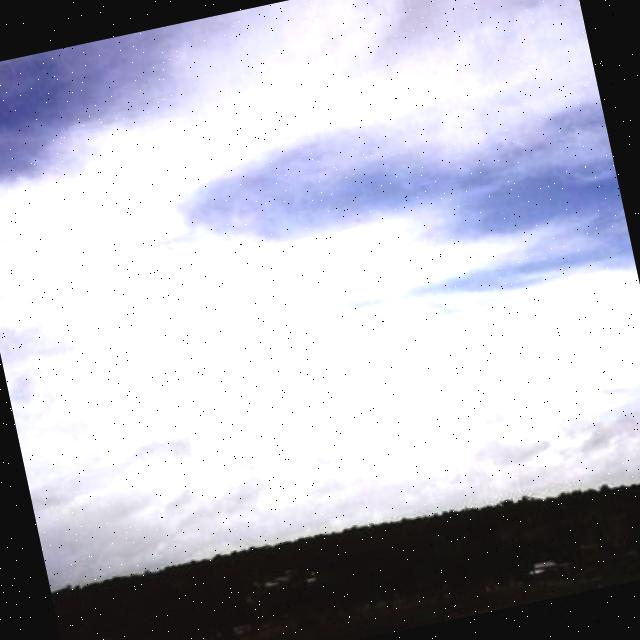St: (1, 1, 640, 514)
